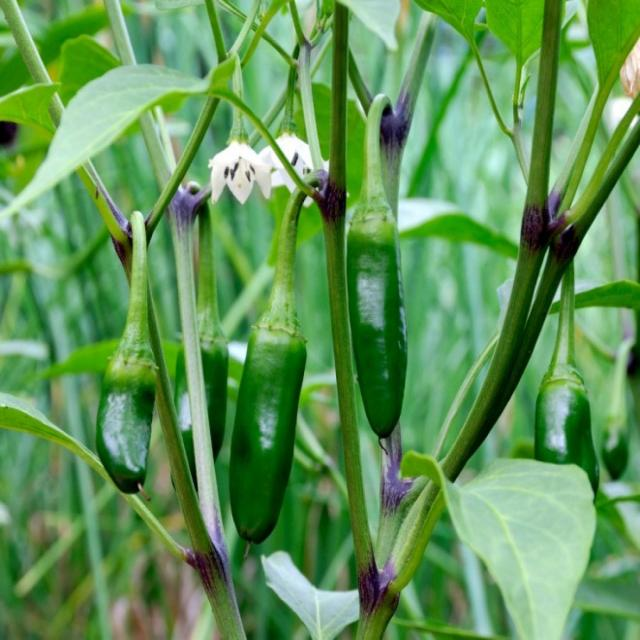aji: (335, 201, 432, 414), (235, 319, 309, 529), (88, 334, 161, 482), (184, 326, 232, 457)
